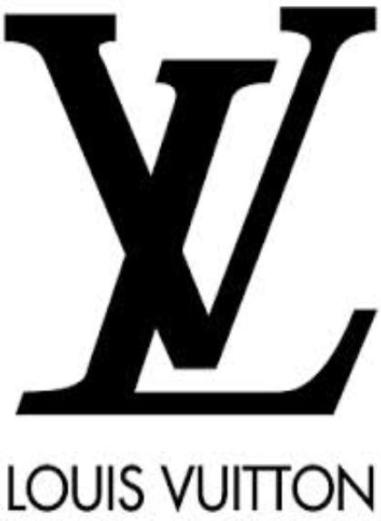LOUIS-VUITTON: (6, 7, 381, 433), (1, 455, 378, 512)
